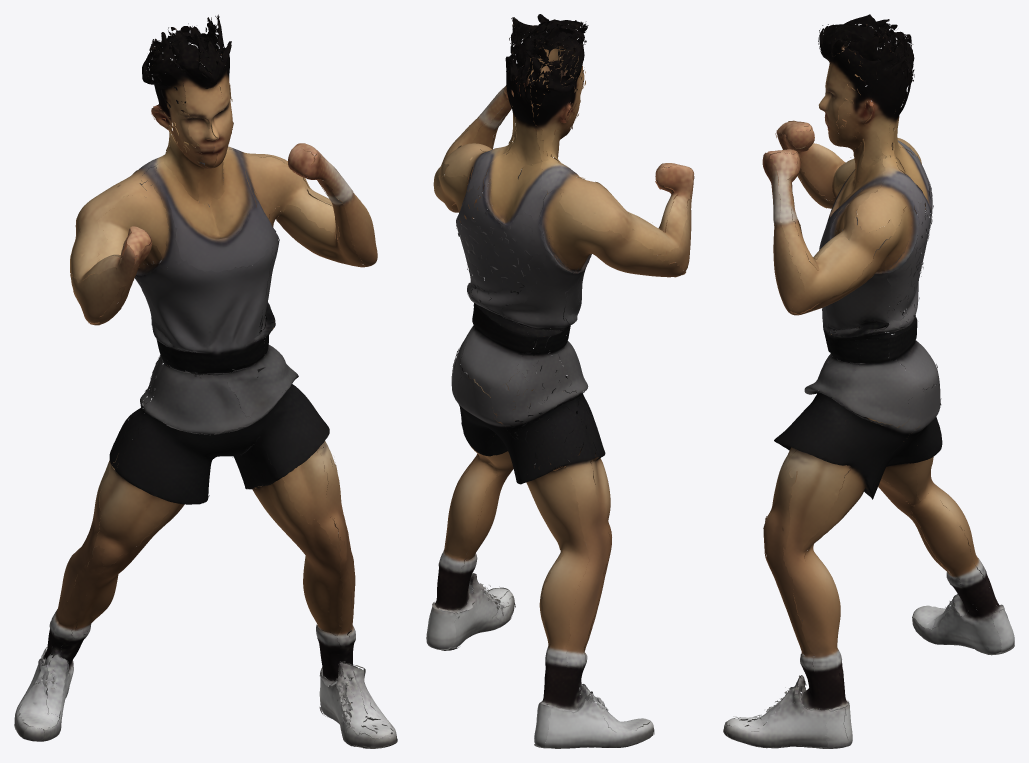
The model's file is trellis2-concept2-high.displace.glb.
The picture shows the model from 3 angles, left to right: view 1: azimuth 30°, elevation 25°; view 2: azimuth 150°, elevation 25°; view 3: azimuth 270°, elevation 25°; orthographic projection. The views are drawn at different scales.
Parts seen in each view (by area): view 1: world; view 2: world; view 3: world.
Part boxes in pixels (x1,y1,x2,y2): world: (14,14,397,748); world: (426,14,694,748); world: (723,14,1014,748).
Bounding box in the file's own units: 0.4232 × 0.9994 × 0.3942.
Materials: 1 (1 with a texture image).
